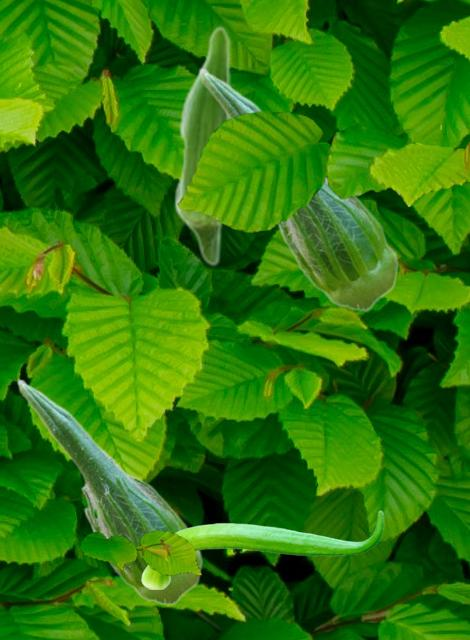okra: (198, 67, 398, 310), (16, 378, 202, 604), (141, 510, 383, 588), (173, 25, 232, 266)
